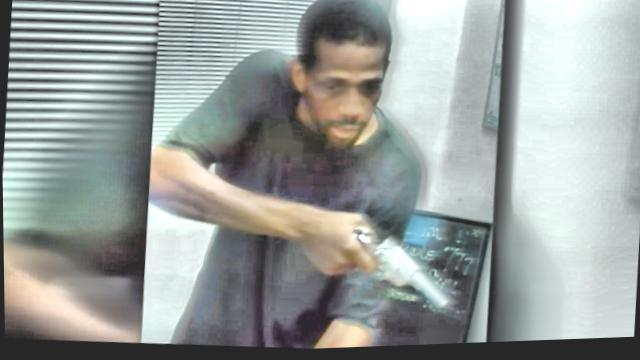pistol: (337, 221, 453, 317)
